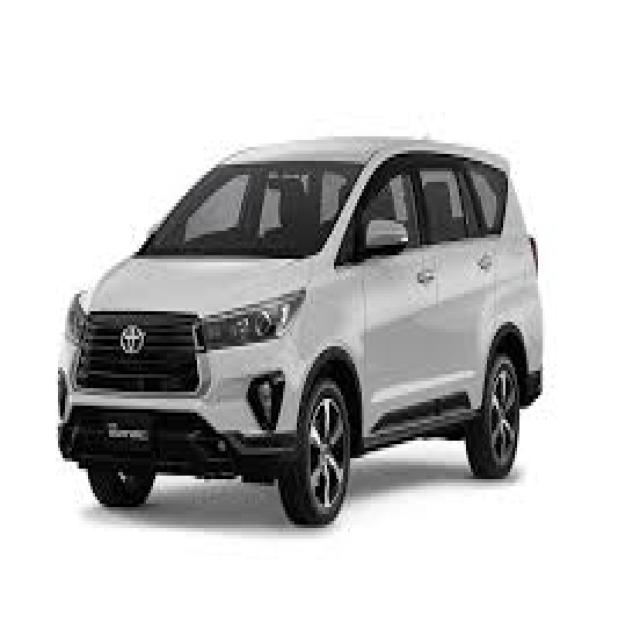light_vehicle: (58, 136, 544, 526)
